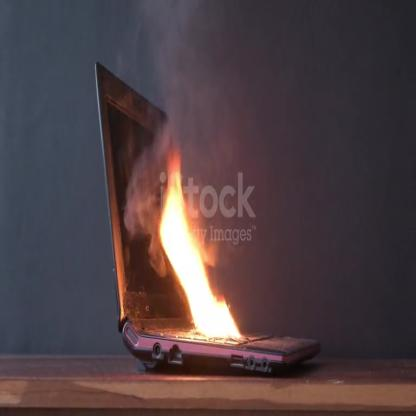fire: (157, 160, 248, 343)
smoke: (124, 1, 259, 276)
